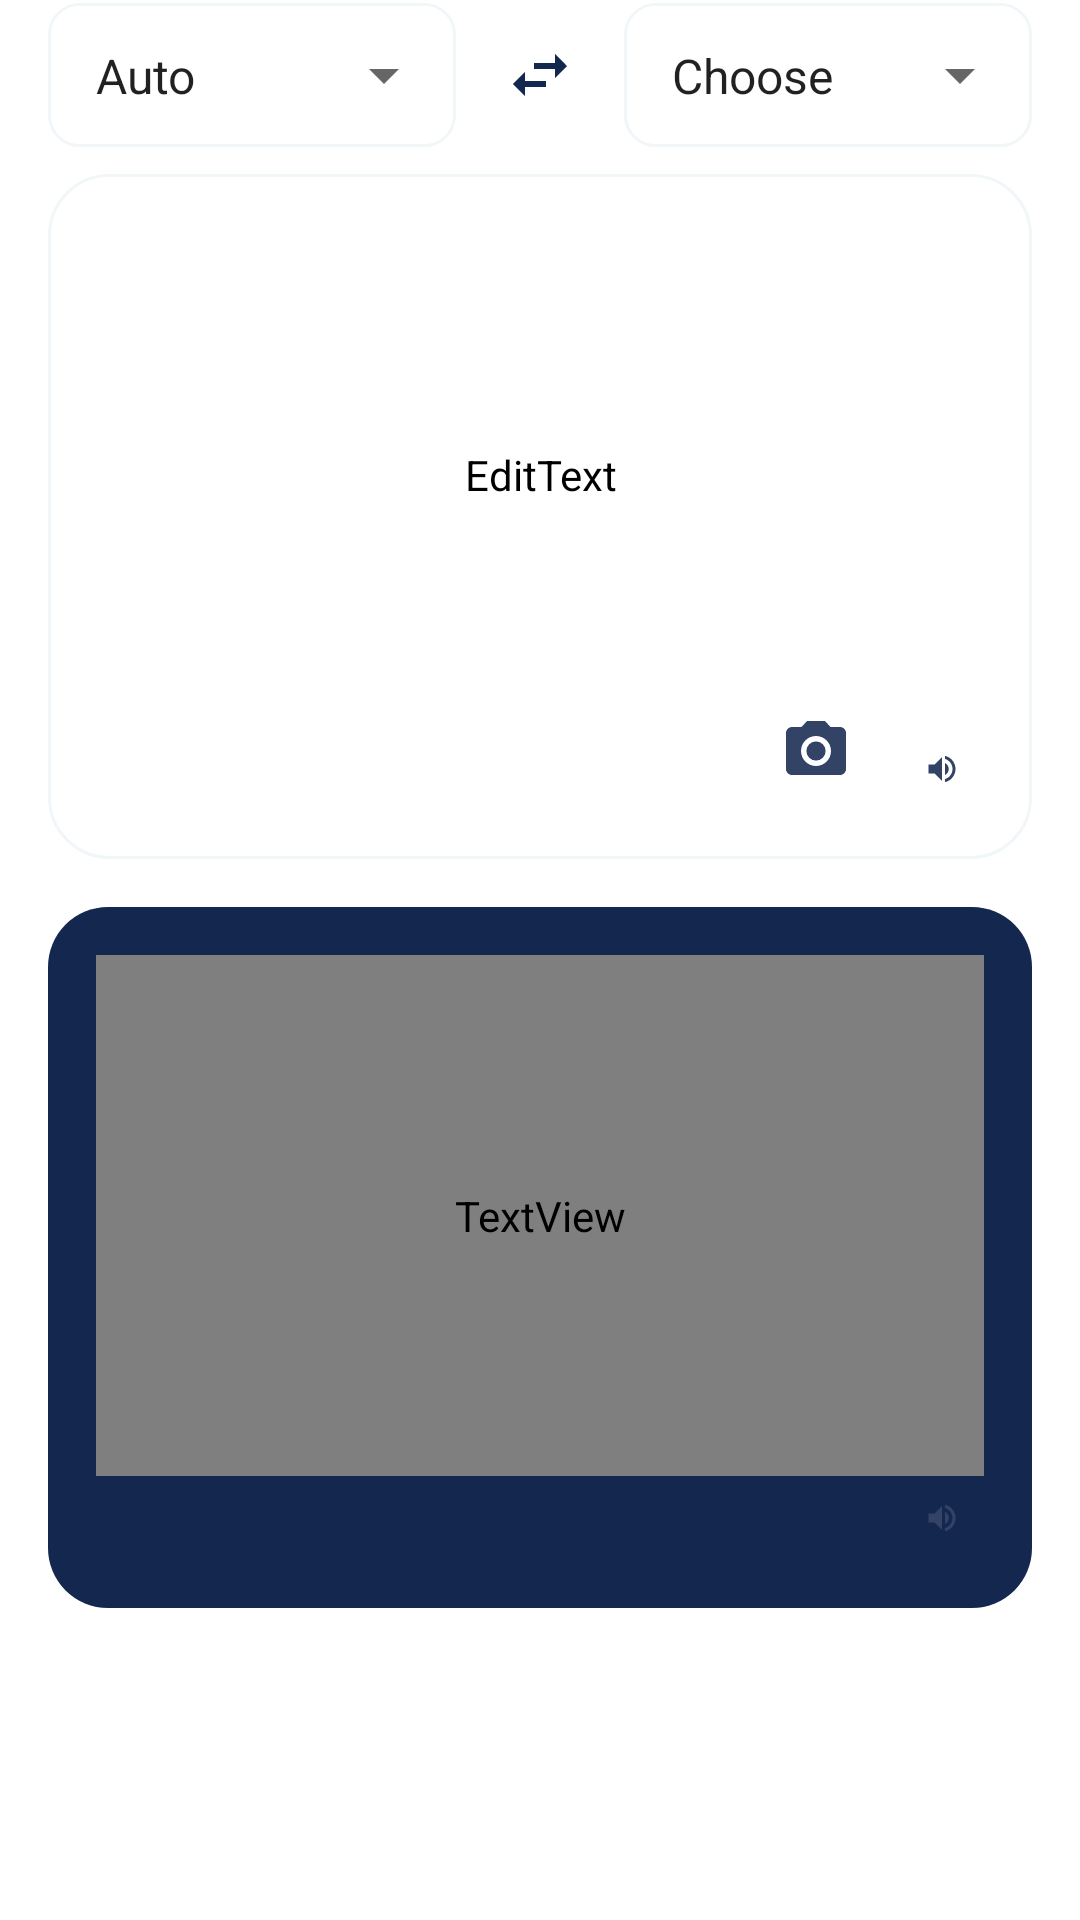

Point at icon controls on the screen. Image size 1080px×1920px, points as point (x, y).
camera: point (816, 748)
compare translate: point (540, 75)
volume up: point (942, 769), point (942, 1518)
